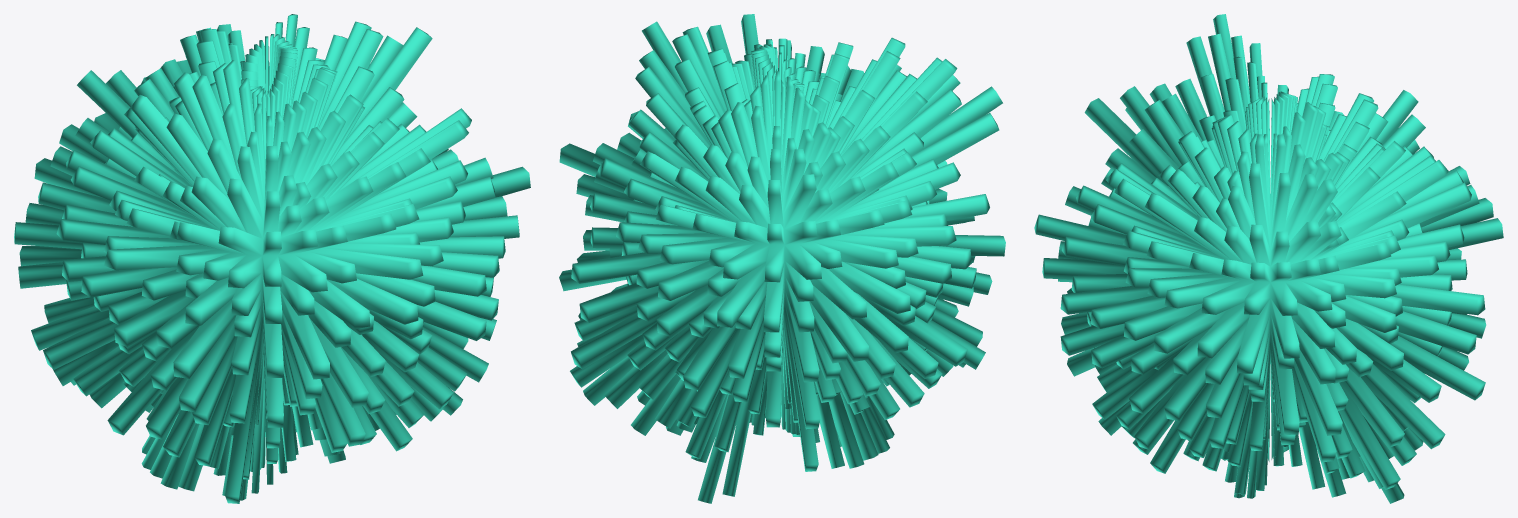
Rendered from jelly.fbx.
The picture shows the model from 3 angles, left to right: view 1: azimuth 30°, elevation 25°; view 2: azimuth 150°, elevation 25°; view 3: azimuth 270°, elevation 25°; orthographic projection. The views are drawn at different scales.
Parts seen in each view (by area): view 1: Sphere; view 2: Sphere; view 3: Sphere.
Boxes of the visible parts, box(x1,y1,x2,y2) form: Sphere: box(14, 14, 530, 503); Sphere: box(559, 14, 1005, 503); Sphere: box(1034, 14, 1503, 503).
Bounding box in the file's own units: 616 × 588 × 593.
